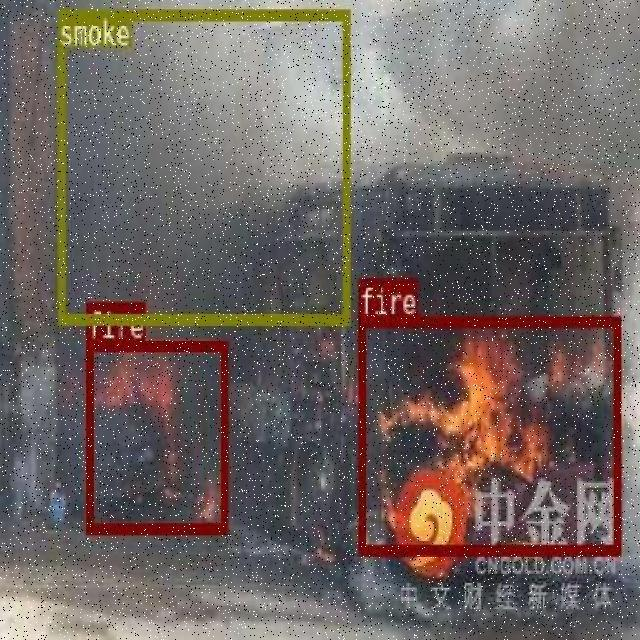Smoke: (58, 0, 348, 258)
